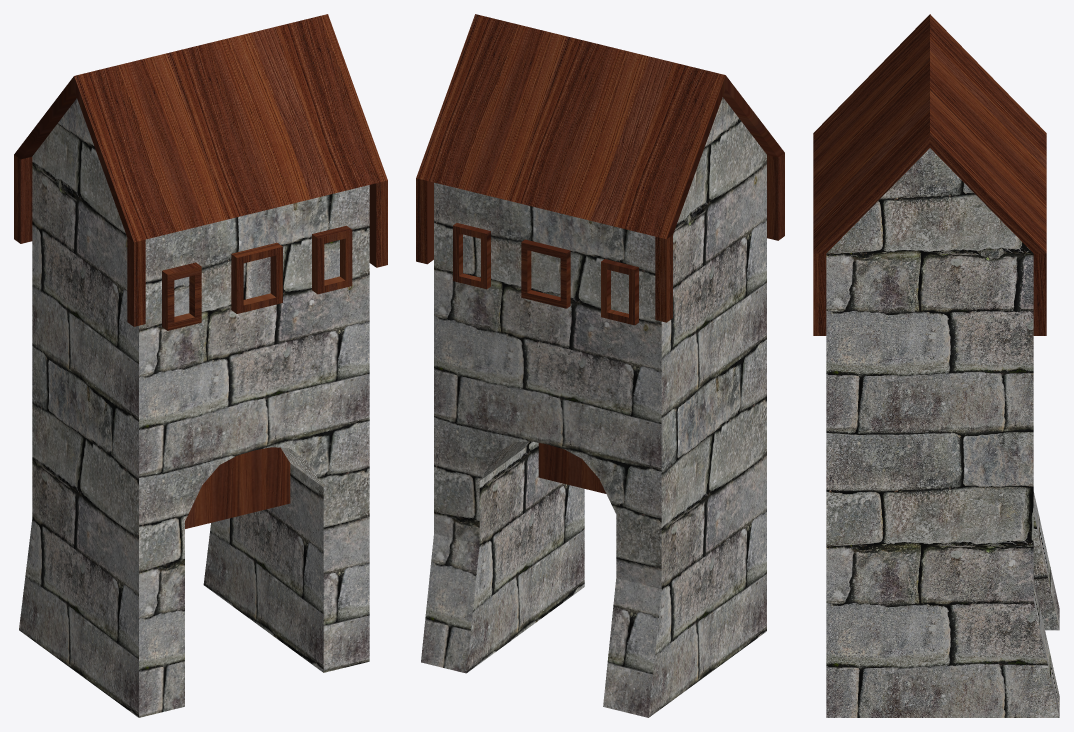
Rendered from gate_model.glb.
3 renders of one model, left to right at view 1: azimuth 30°, elevation 25°; view 2: azimuth 150°, elevation 25°; view 3: azimuth 270°, elevation 25°, orthographic. The views are drawn at different scales.
Visible parts, largest first — view 1: house, wooden_parts, gate; view 2: house, wooden_parts, gate; view 3: house, wooden_parts.
Part boxes in pixels (<box>): house: <box>19,98,369,717</box>; wooden_parts: <box>14,14,387,330</box>; gate: <box>185,447,290,528</box>; house: <box>421,97,766,717</box>; wooden_parts: <box>416,14,784,325</box>; gate: <box>538,443,606,493</box>; house: <box>826,148,1059,717</box>; wooden_parts: <box>813,14,1046,335</box>.
Size of the model in its own units: 2.2 by 5.01 by 1.9.
2 materials, 2 textured.
